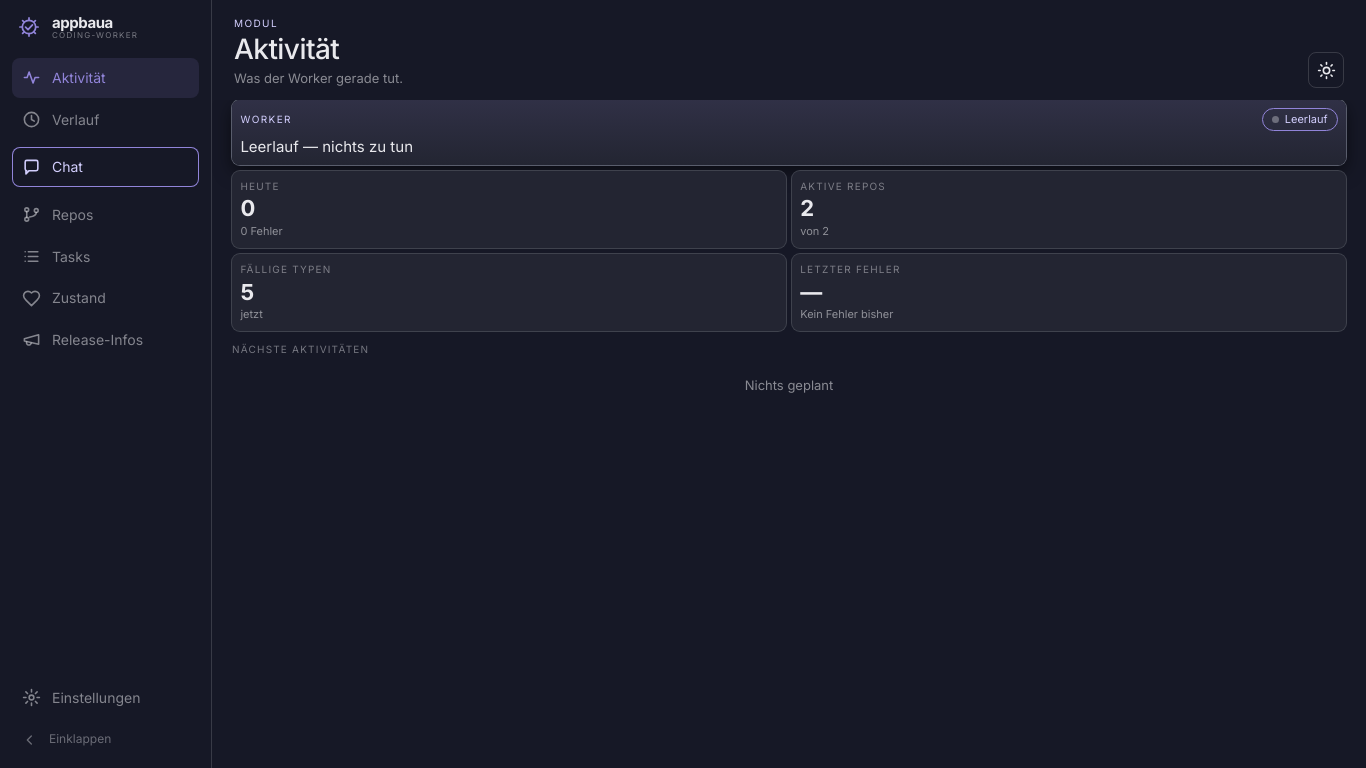
Scenario: Repo-Verwaltung — Auf appbaua umstellen (req-012) › ein Netzwerkfehler bleibt am Eintrag sichtbar und hängt nicht im Indikator
Expected: the text "Leerlauf — nichts zu tun" is shown, [240,137,413,156]
Click the button "Repos". click: (106, 215)
box: [12,195,199,235]
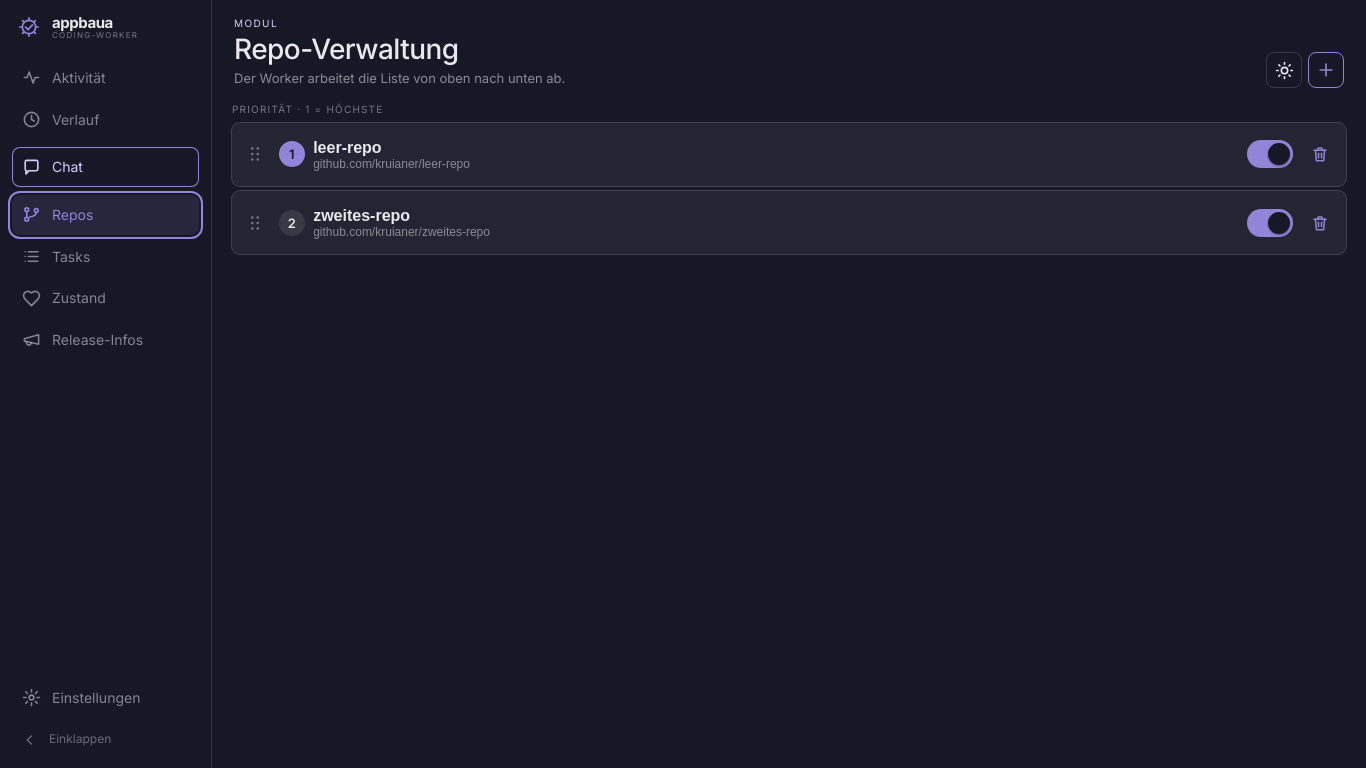
Click the button "leer-repo github.com/kruianer/leer-repo". click: (347, 147)
box: [313,138,1239,171]
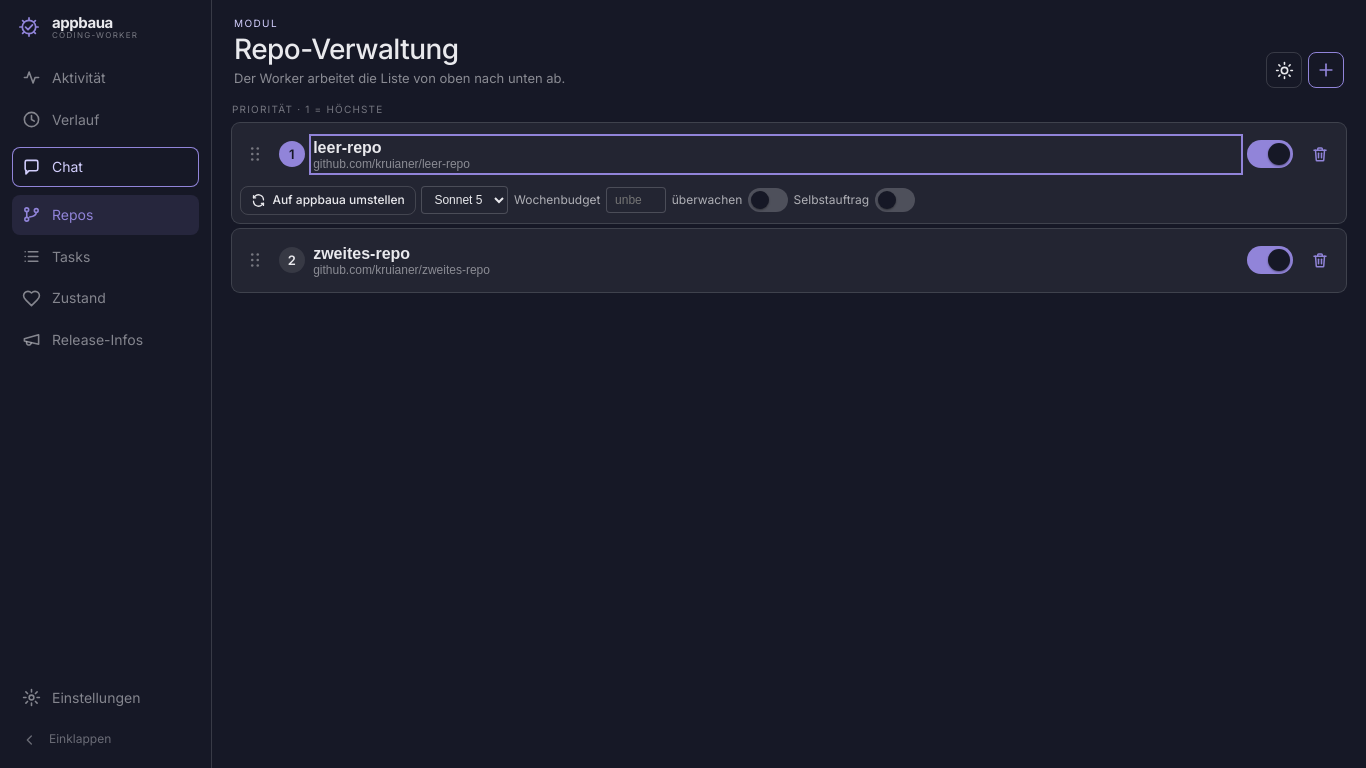
Click the button "Auf appbaua umstellen". click: (328, 200)
box: [240,186,416,215]
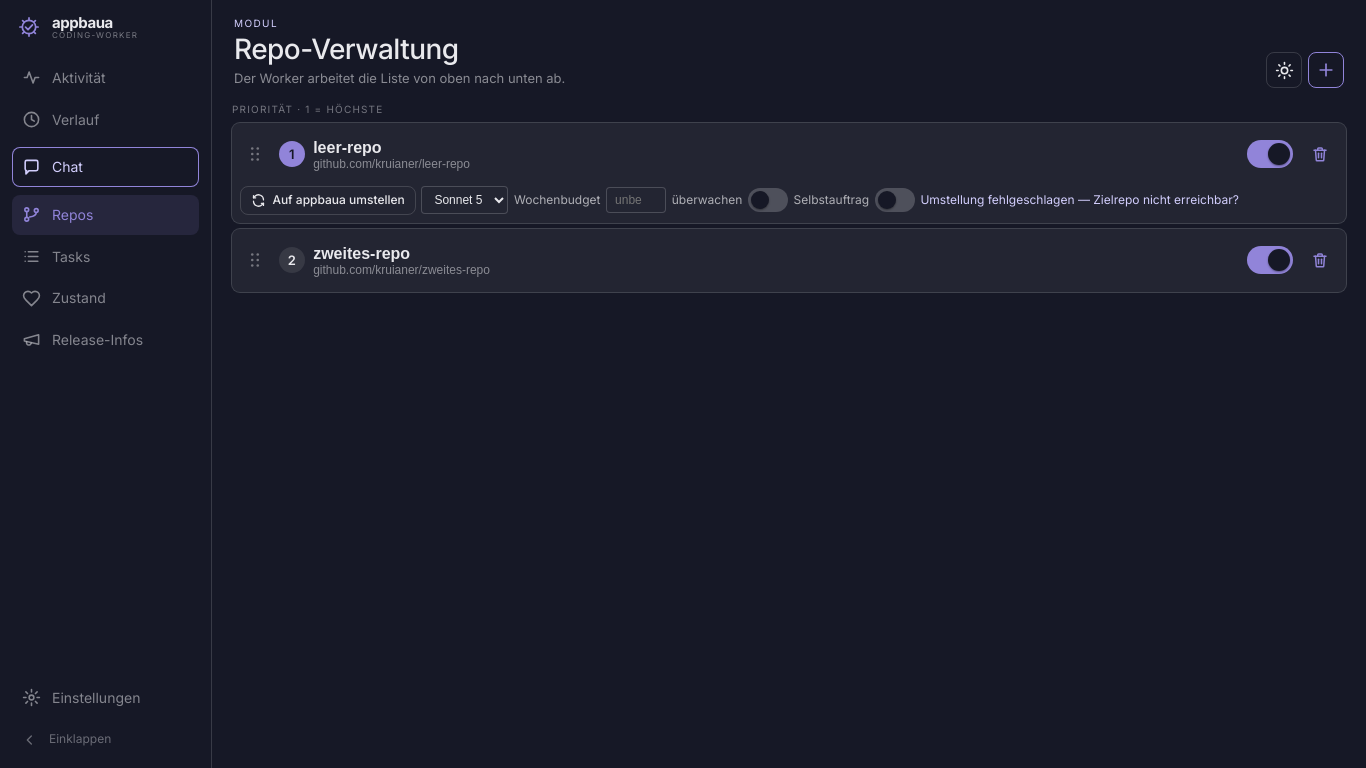
Expected: the message shows "Umstellung fehlgeschlagen", [920,192,1239,207]
